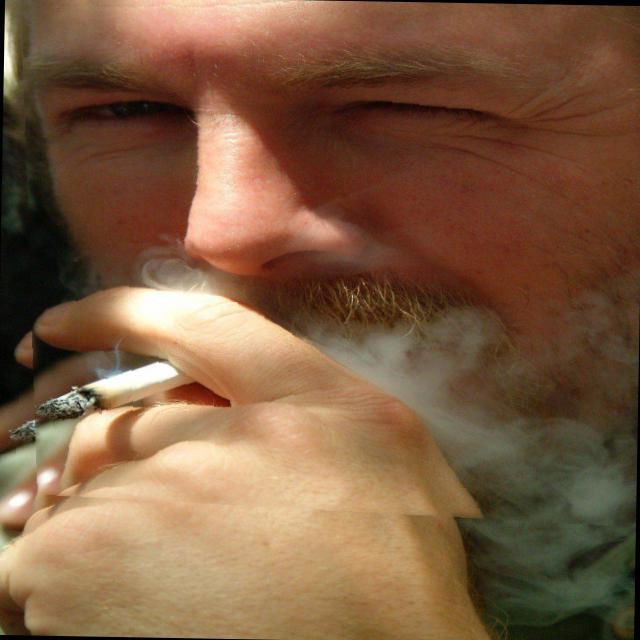cigarette: (0, 333, 225, 457)
